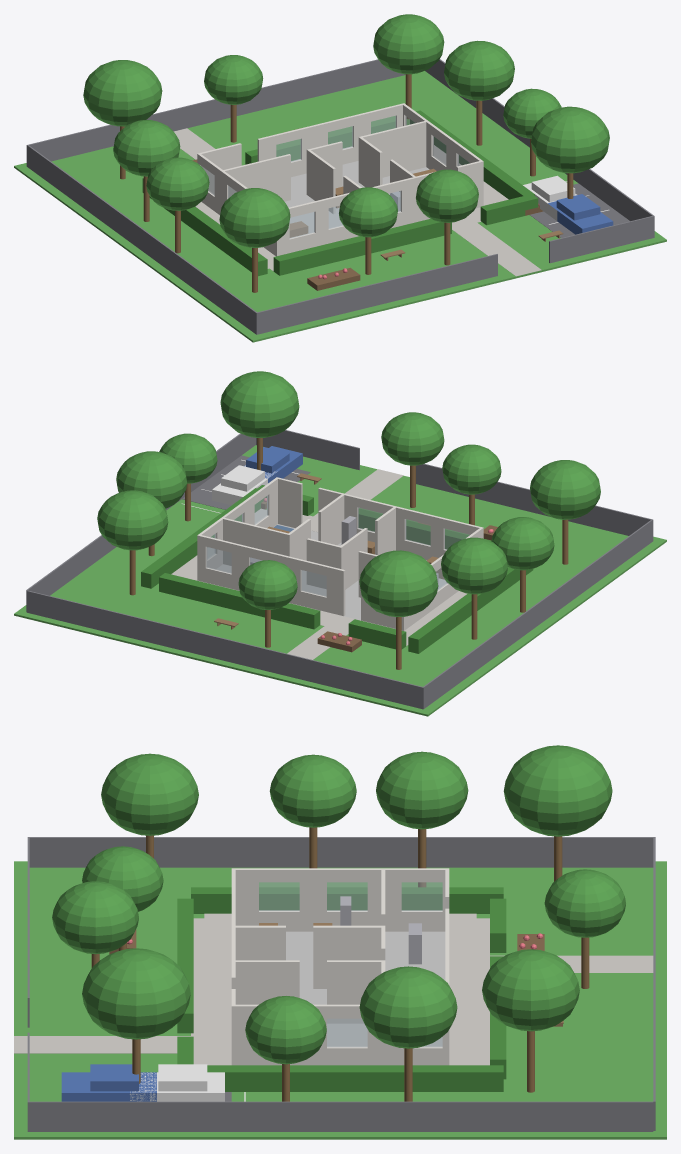
File: office.gltf
3 views of the same model, one above another, from view 1: azimuth 30°, elevation 25°; view 2: azimuth 150°, elevation 25°; view 3: azimuth 270°, elevation 25° (orthographic). The views are drawn at different scales.
Visible parts, largest first — view 1: Ground_Garden-col, Wall_Fence_N-col, Wall_Fence_S_Left-col, Wall_Fence_W-col, Outdoor_Tree_S4_Canopy, Outdoor_Tree_N1_Canopy, Outdoor_Tree_N3_Canopy, Outdoor_Tree_S1_Canopy, Outdoor_Tree_E2_Canopy, Wall_Hedge_S_Left-col, Outdoor_Tree_W2_Canopy, Outdoor_Tree_W1_Canopy (+33 smaller); view 2: Ground_Garden-col, Wall_Fence_N-col, Wall_Fence_W-col, Outdoor_Tree_S4_Canopy, Outdoor_Tree_N1_Canopy, Outdoor_Tree_N3_Canopy, Outdoor_Tree_S1_Canopy, Wall_Fence_S_Left-col, Outdoor_Tree_W2_Canopy, Wall_Hedge_N_Right-col, Outdoor_Tree_E2_Canopy, Wall_Fence_E-col (+39 smaller); view 3: Ground_Garden-col, Wall_Fence_E-col, Wall_Fence_W-col, Outdoor_Tree_N1_Canopy, Outdoor_Tree_S4_Canopy, Wall_Hedge_E-col, Outdoor_Tree_N3_Canopy, Outdoor_Tree_S1_Canopy, Outdoor_Tree_E2_Canopy, Ground_Path_North, Outdoor_Tree_W2_Canopy, Wall_Hedge_W-col (+34 smaller).
Boxes of the visible parts, x1,y1,x2,y2 form: Ground_Garden-col: [14, 71, 666, 342]; Wall_Fence_N-col: [26, 59, 405, 166]; Wall_Fence_S_Left-col: [256, 254, 497, 334]; Wall_Fence_W-col: [27, 145, 257, 334]; Outdoor_Tree_S4_Canopy: [531, 106, 609, 173]; Outdoor_Tree_N1_Canopy: [83, 60, 162, 126]; Outdoor_Tree_N3_Canopy: [373, 14, 444, 74]; Outdoor_Tree_S1_Canopy: [219, 188, 290, 247]; Outdoor_Tree_E2_Canopy: [444, 40, 514, 100]; Wall_Hedge_S_Left-col: [273, 218, 451, 275]; Outdoor_Tree_W2_Canopy: [113, 120, 180, 176]; Outdoor_Tree_W1_Canopy: [146, 157, 209, 210]; Ground_Garden-col: [14, 445, 666, 716]; Wall_Fence_N-col: [26, 590, 424, 709]; Wall_Fence_W-col: [423, 520, 652, 708]; Outdoor_Tree_S4_Canopy: [220, 371, 299, 437]; Outdoor_Tree_N1_Canopy: [359, 550, 438, 617]; Outdoor_Tree_N3_Canopy: [97, 490, 168, 550]; Outdoor_Tree_S1_Canopy: [530, 460, 600, 519]; Wall_Fence_S_Left-col: [416, 463, 653, 541]; Outdoor_Tree_W2_Canopy: [441, 537, 507, 594]; Wall_Hedge_N_Right-col: [159, 573, 320, 629]; Outdoor_Tree_E2_Canopy: [116, 451, 187, 508]; Wall_Fence_E-col: [26, 433, 255, 611]; Ground_Garden-col: [14, 861, 666, 1139]; Wall_Fence_E-col: [27, 1101, 653, 1131]; Wall_Fence_W-col: [29, 837, 653, 867]; Outdoor_Tree_N1_Canopy: [503, 745, 612, 836]; Outdoor_Tree_S4_Canopy: [82, 948, 190, 1039]; Wall_Hedge_E-col: [207, 1065, 503, 1091]; Outdoor_Tree_N3_Canopy: [482, 949, 579, 1031]; Outdoor_Tree_S1_Canopy: [101, 753, 198, 835]; Outdoor_Tree_E2_Canopy: [359, 966, 457, 1048]; Ground_Path_North: [449, 918, 489, 1065]; Outdoor_Tree_W2_Canopy: [376, 751, 468, 829]; Wall_Hedge_W-col: [191, 887, 503, 913].
Bounding box in the file's own units: 24 × 6.41 × 24.
